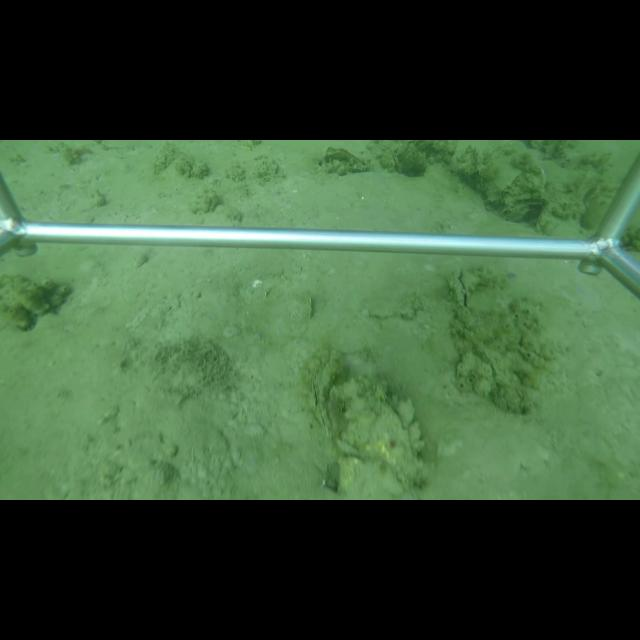Oyster-Closed: (331, 380, 413, 496), (309, 362, 339, 444), (303, 296, 314, 322), (387, 153, 401, 173)
Oyster-Open: (450, 269, 477, 310)
